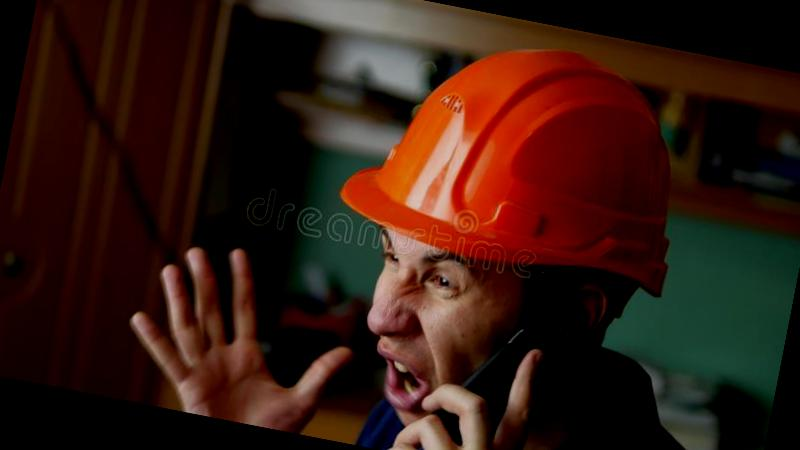helmet: (332, 5, 720, 300)
person: (290, 6, 751, 450)
